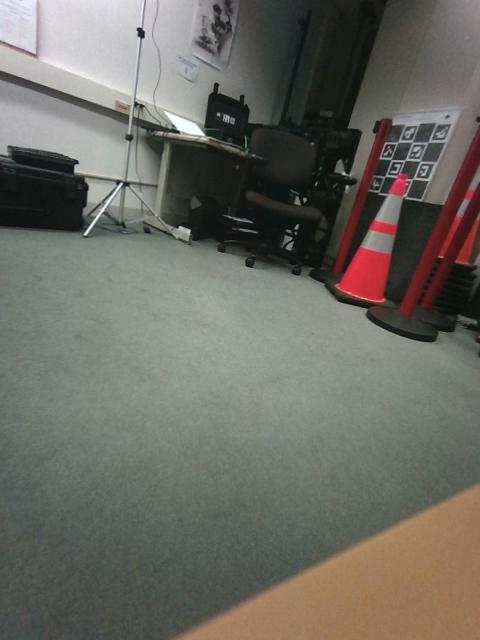block: (20, 404, 133, 492)
